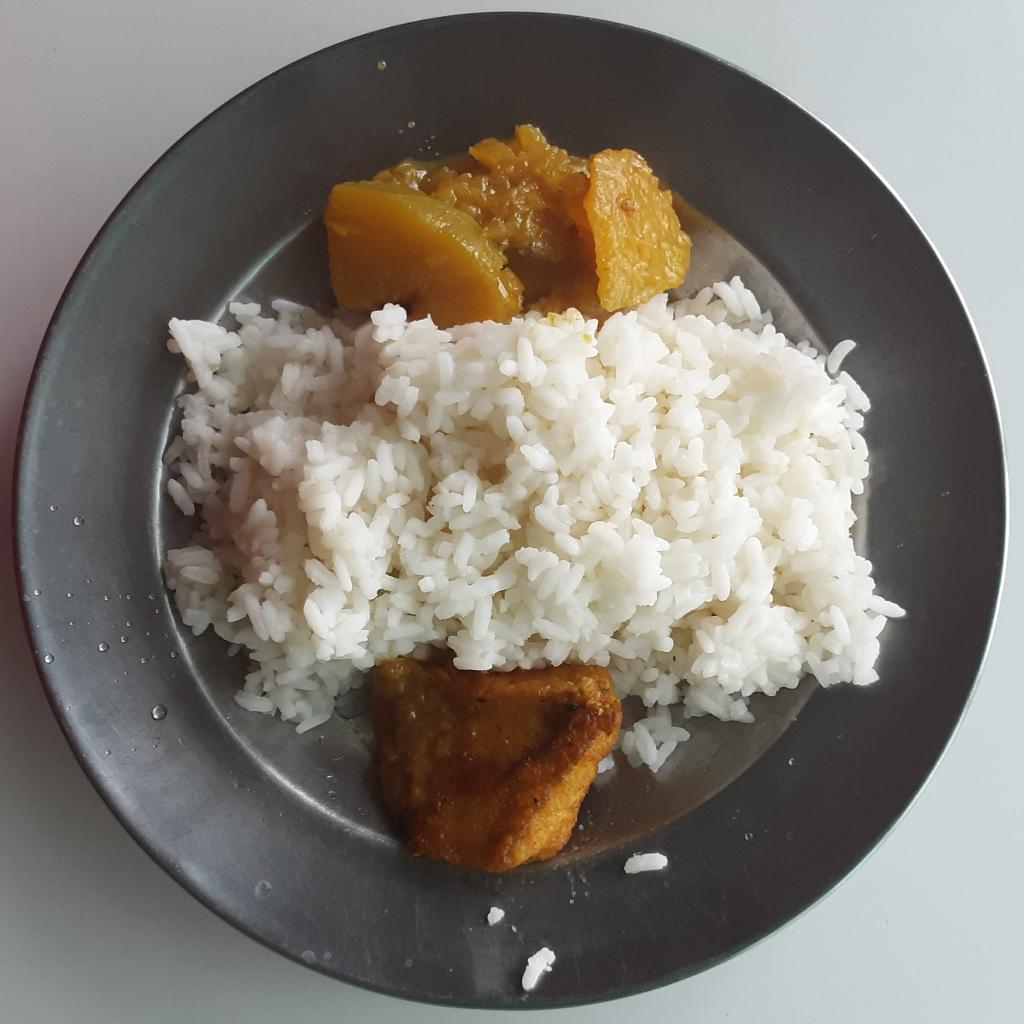fish: (364, 648, 620, 870)
kumra-vaji: (322, 127, 694, 315)
rice: (158, 271, 912, 776)
